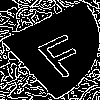F: (25, 25, 96, 81)
